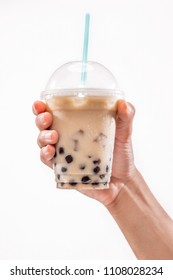plastic_glass: (37, 57, 136, 192)
